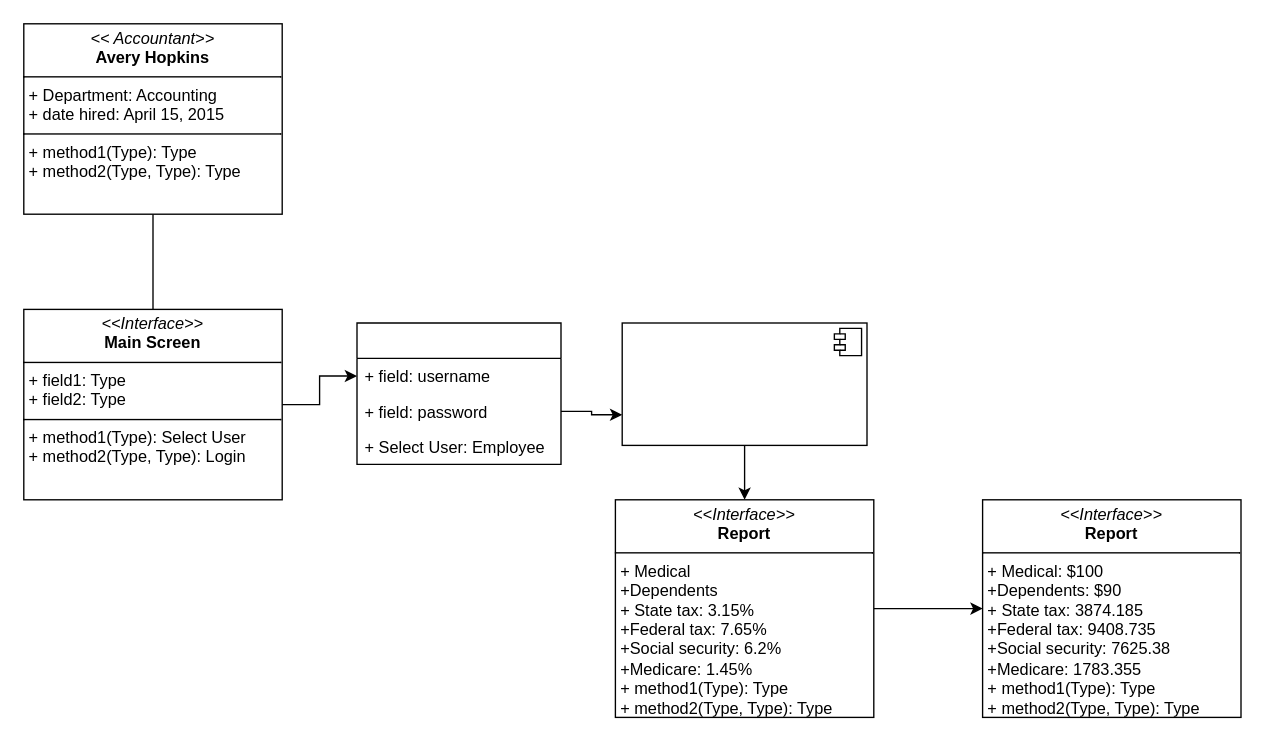
The diagram is 1265 pixels wide and 741 high, and some of its shapes have lost their labels. Here are the shapes that lost their labels. From the top down, the box of each, then its label:
(356, 322, 561, 464): Login
(621, 322, 867, 445): Component + Pay type: Salary + Add PTO +Submit payroll
